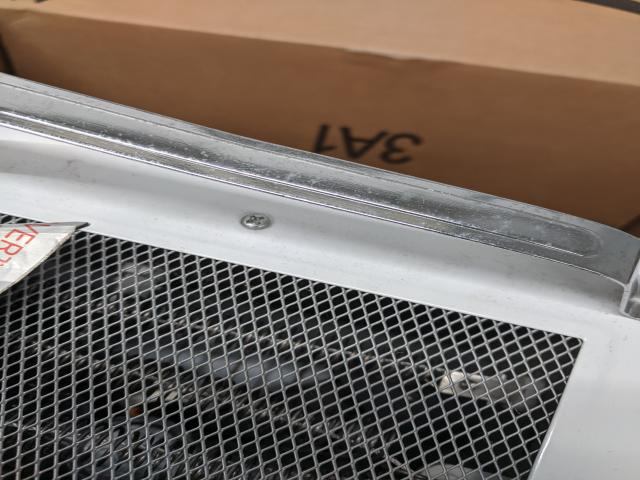CRS: (243, 213, 273, 230)
